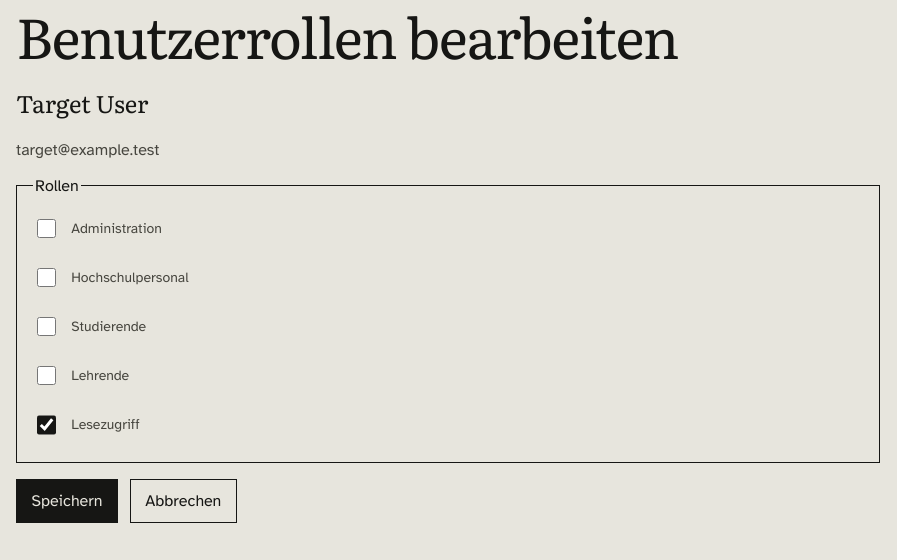
Test case: role management page › saves a replacement and shows the committed selection
Expected: the heading "Target User" is shown, [16,85,148,120]
What coordinates should you click on to do the following:
click the checkbox labelled "Studierende"
I would click on:
 (47, 327)
Its box is [37,317,56,336].
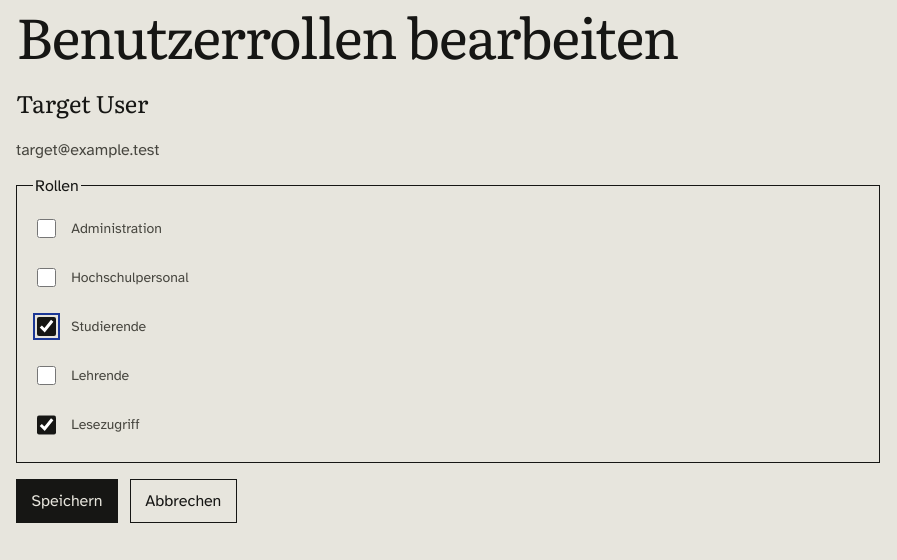
What coordinates should you click on to do the following:
click the checkbox labelled "Lesezugriff"
I would click on:
 (47, 425)
Its box is [37,415,56,435].
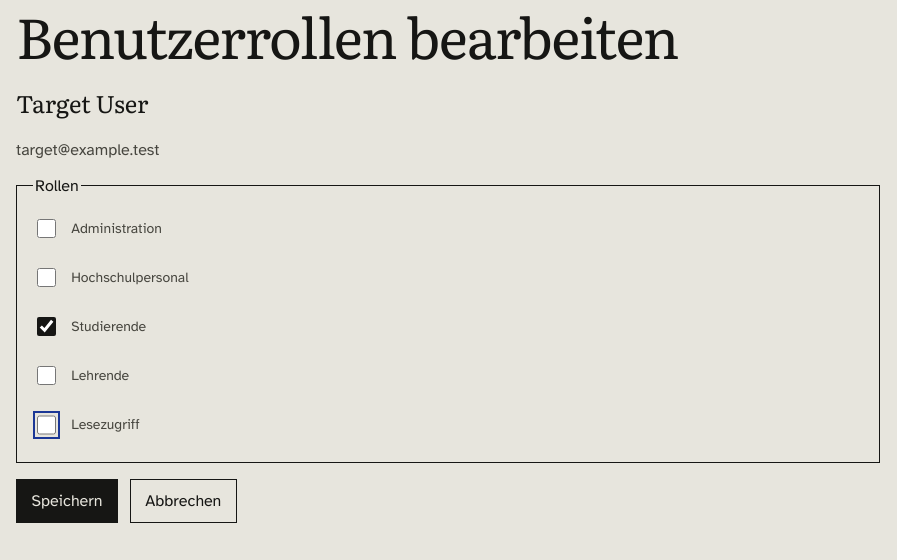
What coordinates should you click on to do the following:
click the button "Speichern"
I would click on:
 (67, 500)
Its box is [16,478,118,522].
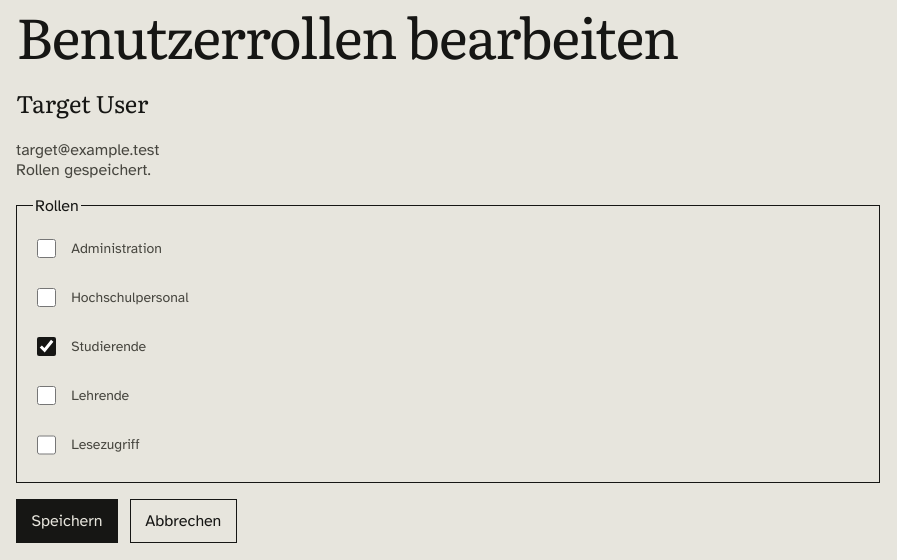
Expected: the checkbox labelled "Studierende" is checked, [37,337,56,356]
Expected: the checkbox labelled "Lesezugriff" is not checked, [37,435,56,455]
Expected: the text "Rollen gespeichert." is shown, [16,160,151,180]
